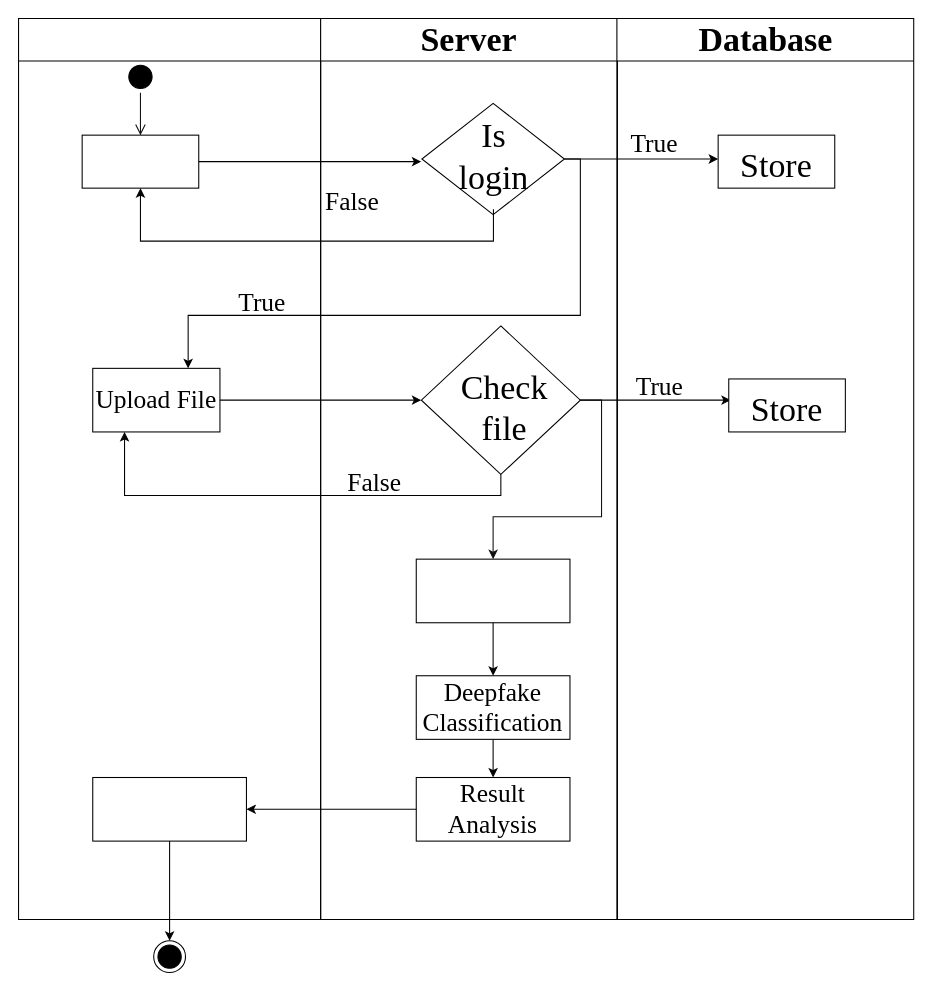
Image size: 933x991. Some labels were removed from this diagram. The shapes that lost their labels are listed below. From the top down, each one's box as (x1, y1, x2, y2) in pixels, then its label:
(81, 134, 199, 188): login
(17, 17, 321, 920): User
(415, 558, 570, 623): Data Preprocessing
(92, 776, 246, 841): View Result
